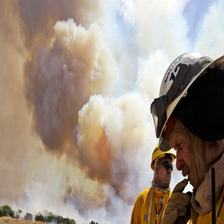fire: (17, 15, 132, 194)
